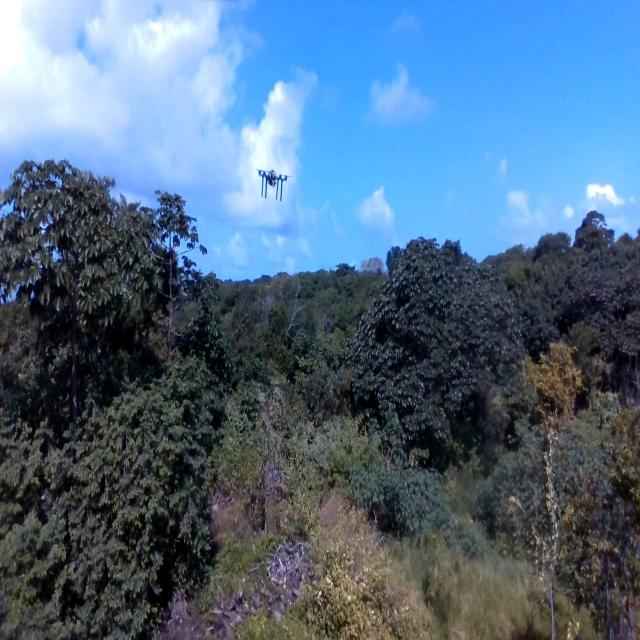-uav-: (247, 158, 297, 214)
